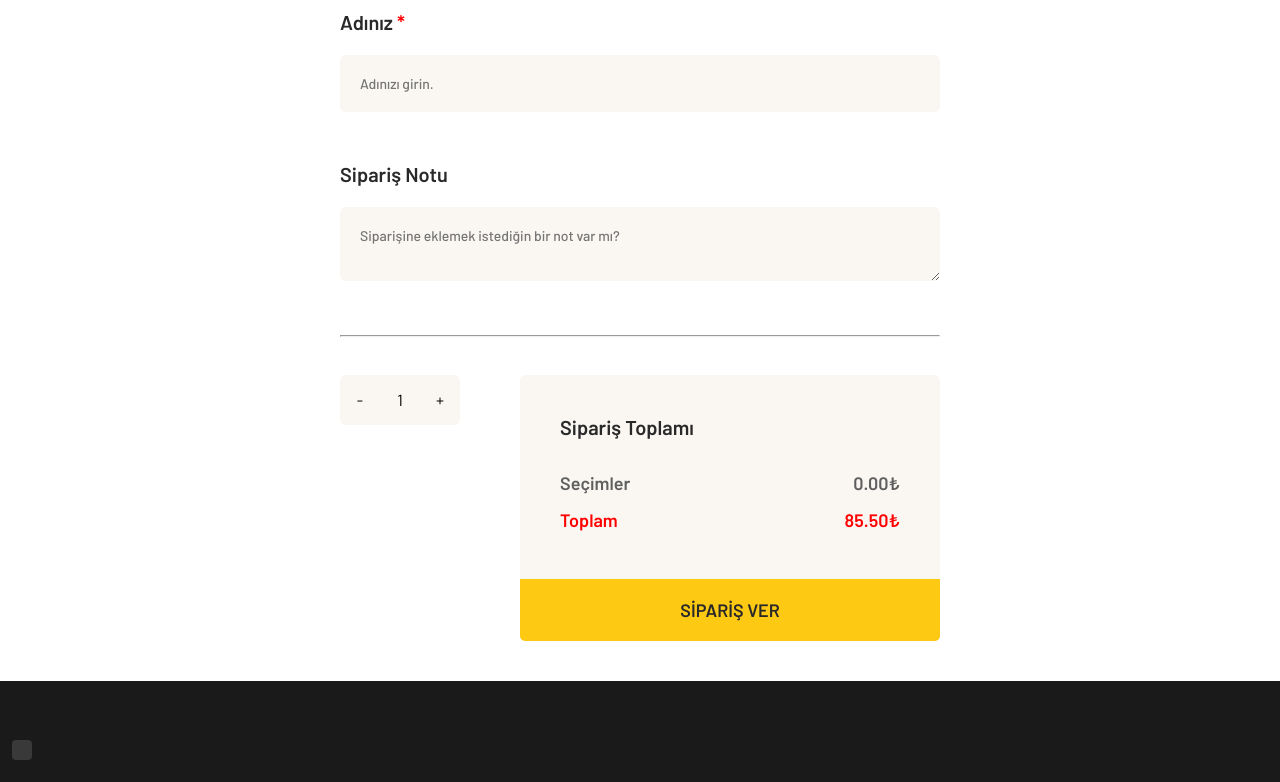
Test: Form Sayfasında › Siparişin fiyatını sipariş sayısına göre doğru hesaplanıyor
(page scrolled)
Click the button with test id "arttirButton" at coordinates (440, 400), box [420, 375, 460, 425]
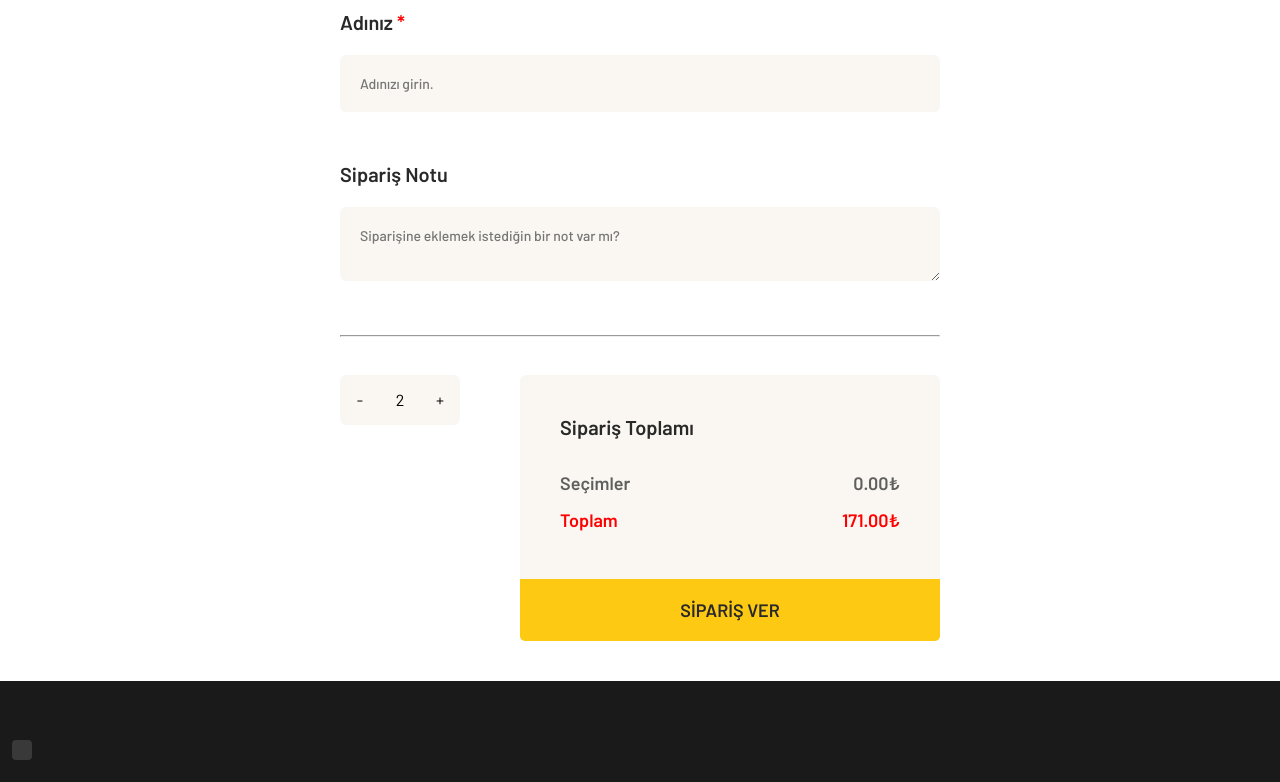
Now the text with test id "totalPrice" reads "171.00₺", box [842, 508, 900, 533]
